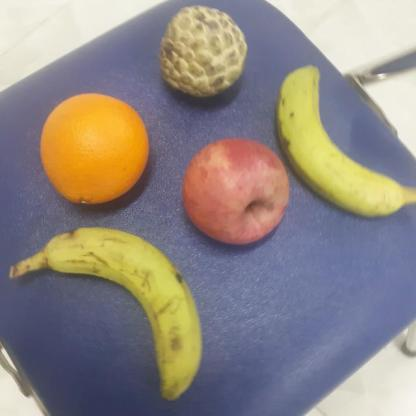annona: (155, 3, 246, 97)
apple: (179, 136, 293, 246)
banana: (40, 221, 206, 404), (275, 61, 410, 224)
orange: (35, 91, 152, 208)
